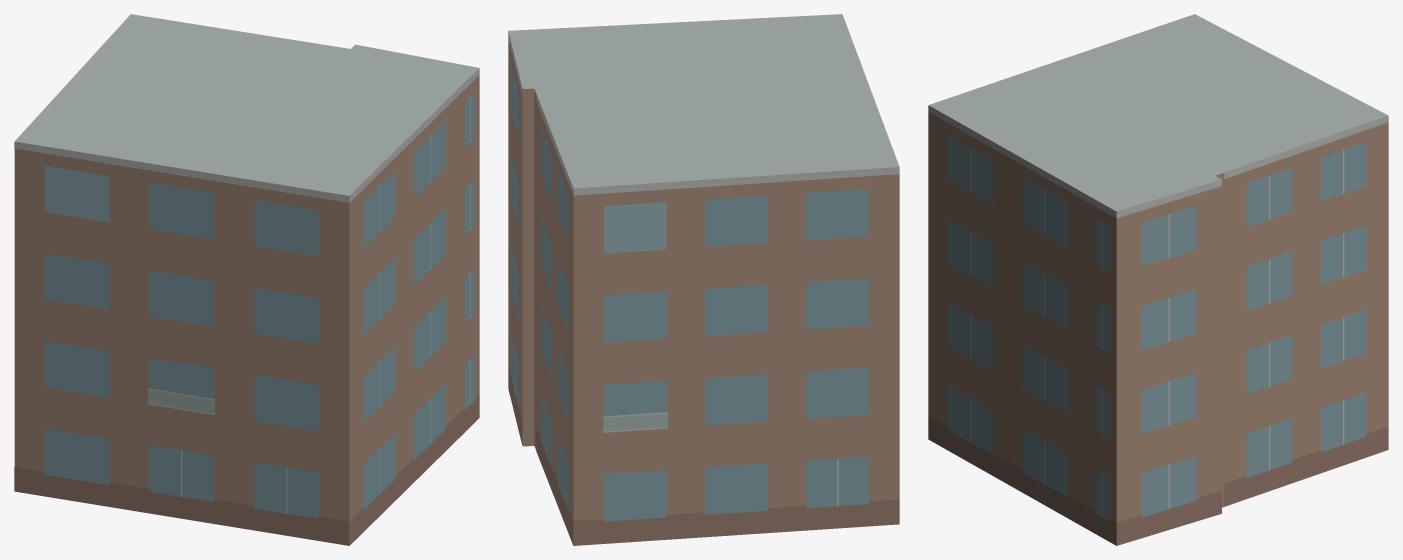
Rendered from survey-upis-32723298.glb.
The picture shows the model from 3 angles, left to right: view 1: azimuth 30°, elevation 25°; view 2: azimuth 150°, elevation 25°; view 3: azimuth 270°, elevation 25°; orthographic projection. The views are drawn at different scales.
Parts seen in each view (by area): view 1: survey-upis-32723298.tmp; view 2: survey-upis-32723298.tmp; view 3: survey-upis-32723298.tmp.
Part boxes in pixels (box(x1,y1,x2,y2)): survey-upis-32723298.tmp: box(14, 14, 479, 545); survey-upis-32723298.tmp: box(508, 14, 899, 545); survey-upis-32723298.tmp: box(928, 14, 1388, 545).
Bounding box in the file's own units: 15.48 × 12.2 × 15.24.
